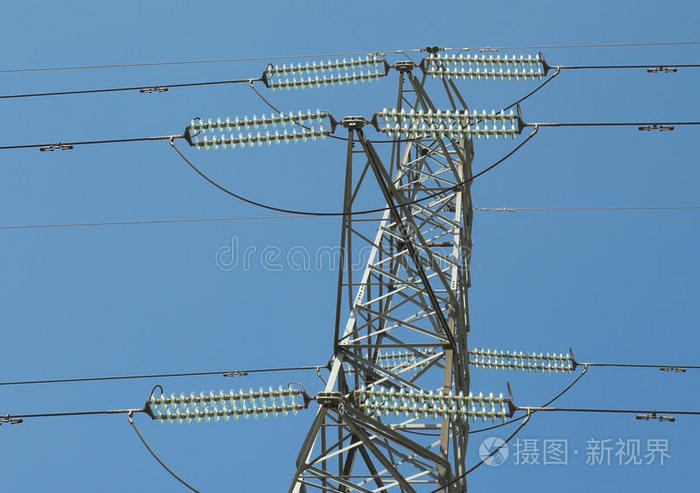insulator: (190, 109, 327, 154), (149, 383, 298, 424), (356, 386, 511, 425), (380, 107, 519, 141), (267, 55, 382, 91), (428, 52, 544, 83), (470, 349, 574, 376)
